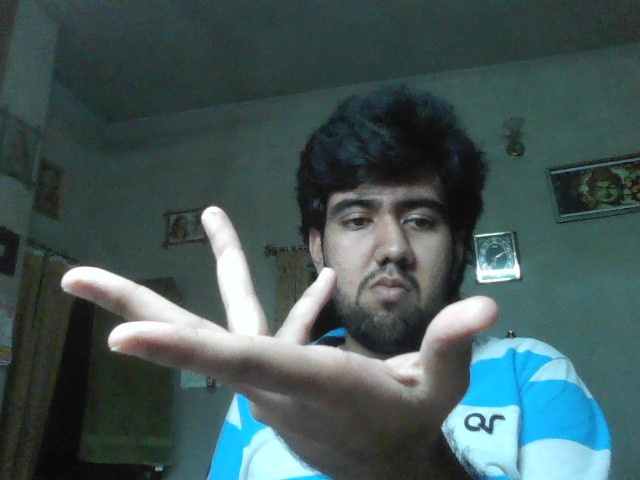What: (60, 205, 499, 470)
